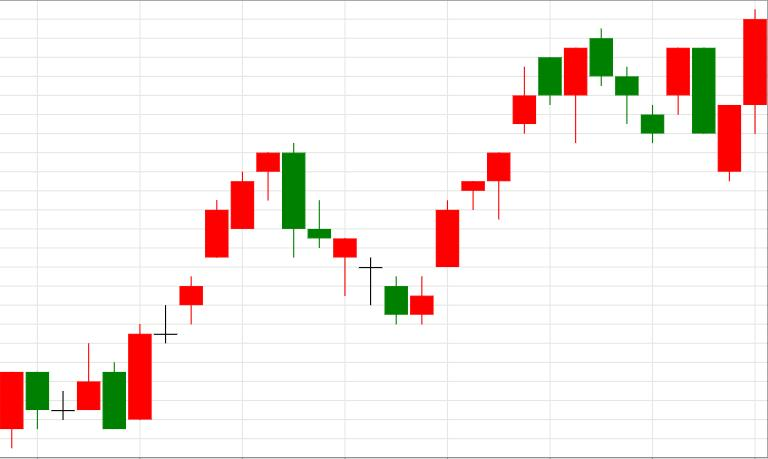bearish_engulfing_fall: (128, 143, 306, 419)
hanging_man_fall: (410, 152, 511, 325)
